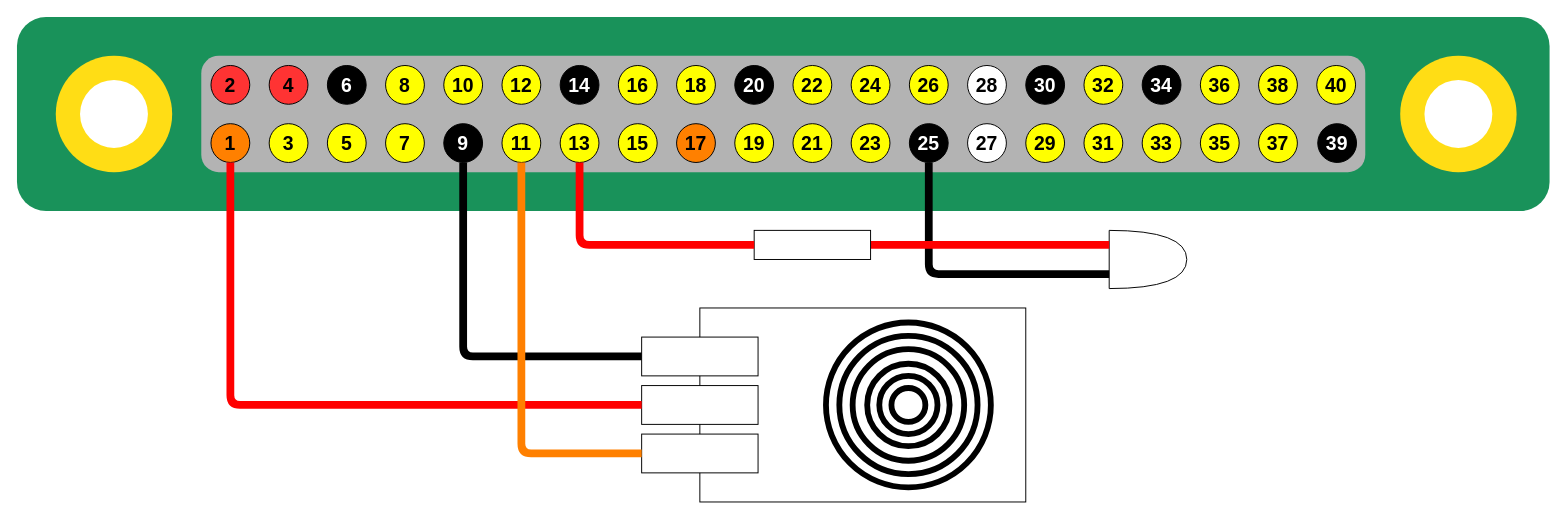
The diagram is 1566 pixels wide and 519 high, and some of its shapes have lost their labels. Here are the shapes that lost their labels. From the top down, the box of each, then its label:
(753, 229, 871, 259): 1K Ω
(1108, 229, 1187, 289): LED
(641, 336, 758, 376): GND
(641, 385, 758, 424): VCC
(641, 433, 758, 473): IO
